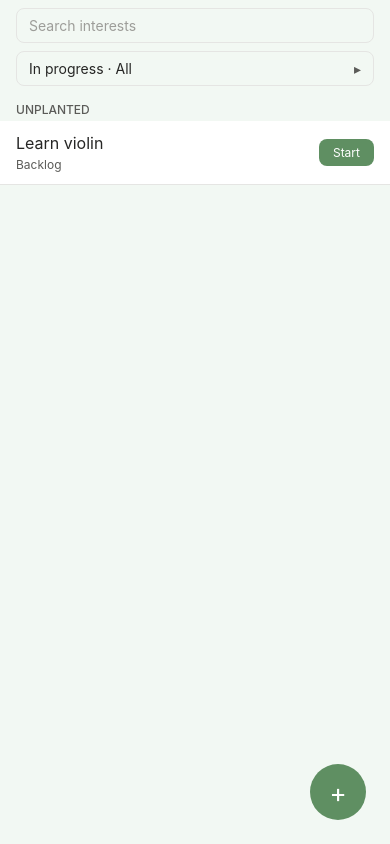
Test case: InterestListScreen › keeps the just-started interest in view by switching the state filter to In progress
Expected: the text "Learn violin" is shown, [16,133,103,153]
Click the text "In progress · All". click: (80, 68)
box: [29,60,132,77]
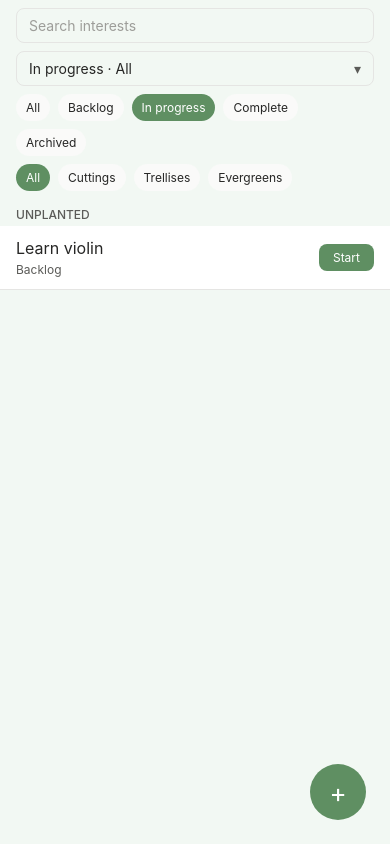
Click the text "Backlog" in the row of "Complete". click: (91, 108)
box: [68,100,114,115]
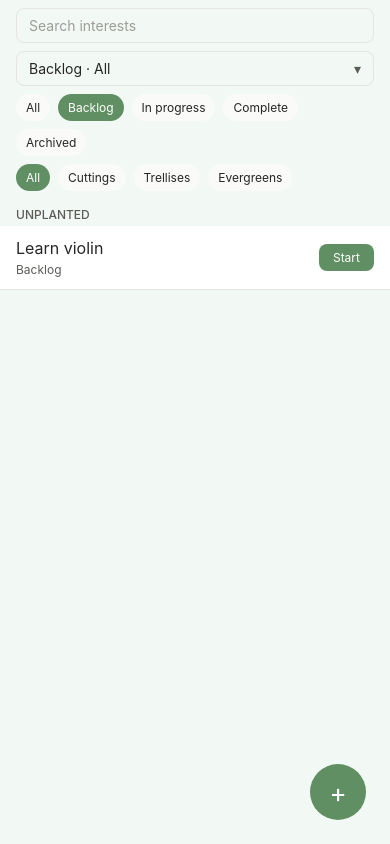
Click the text "Start". click: (346, 258)
box: [333,250,360,265]
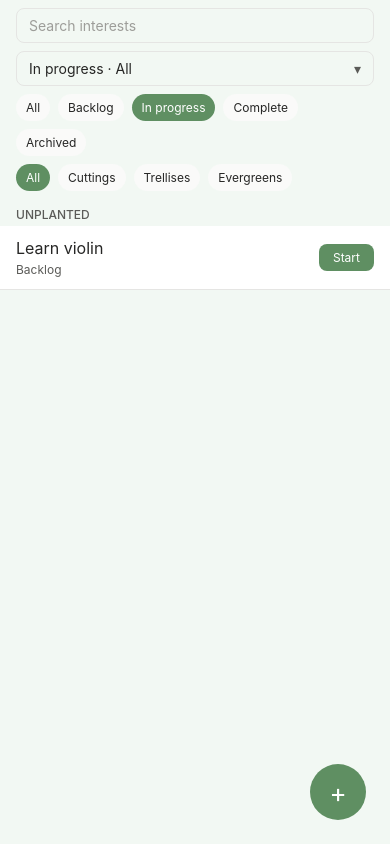
Expected: the text "Learn violin" is shown, [16,238,103,258]
Expected: the text "In progress · All" is shown, [29,60,132,77]
